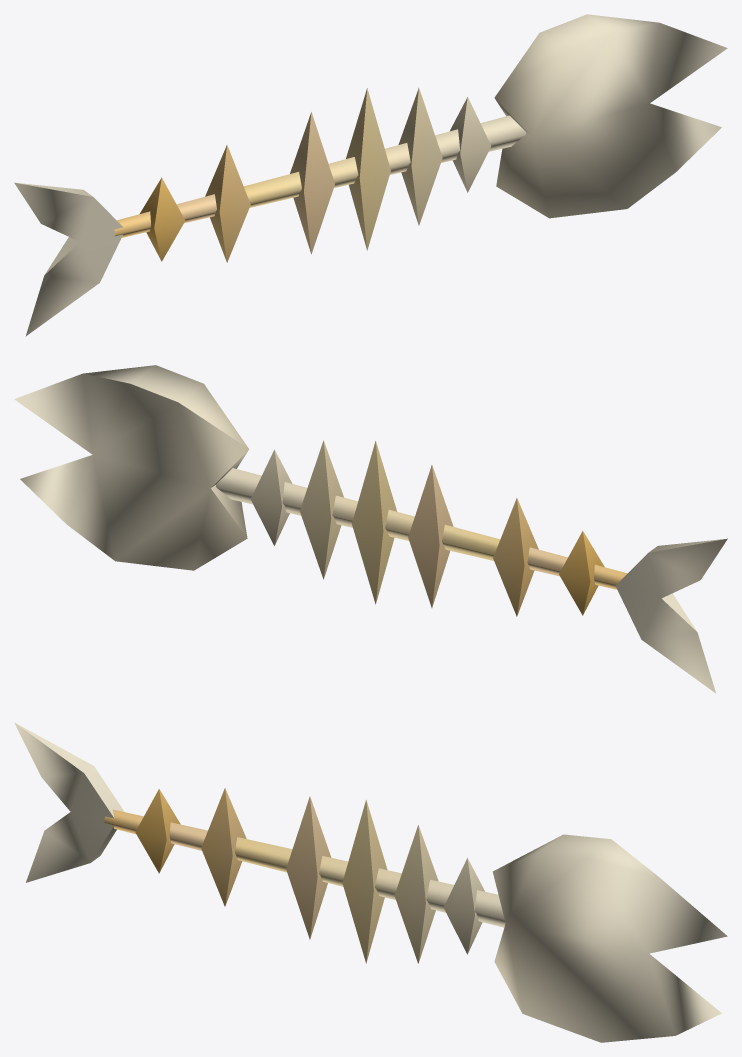
Rendered from weapon_39.FBX.
3 renders of one model, top to bottom at view 1: azimuth 30°, elevation 25°; view 2: azimuth 150°, elevation 25°; view 3: azimuth 330°, elevation 25°, orthographic.
Parts seen in each view (by area): view 1: weapon_39; view 2: weapon_39; view 3: weapon_39.
Boxes of the visible parts, x1,y1,x2,y2 form: weapon_39: (14,14,727,336); weapon_39: (14,365,727,693); weapon_39: (14,722,727,1042).
Size of the model in its own units: 91.38 by 22.08 by 5.63.
1 material, 1 textured.
